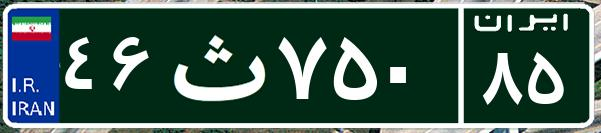0: (385, 28, 445, 110)
4: (57, 26, 110, 107)
5: (330, 28, 385, 110), (525, 38, 570, 115)
6: (110, 28, 158, 105)
7: (273, 28, 330, 110)
8: (475, 38, 525, 113)
ث: (158, 15, 273, 115)
